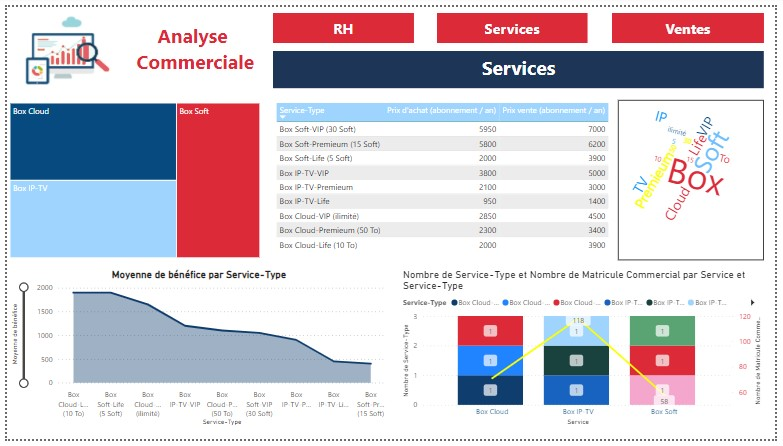

The page's visual inventory and layout, read from the dashboard file:
{"tool":"powerbi","page":{"name":"service","canvas":[1280,720],"ordinal":1},"visuals":[{"type":"textbox","box":[201.4,20,224.3,115.7],"z":0},{"type":"textbox","box":[443.5,73.4,817.9,61.9],"z":1000},{"type":"image","box":[0,0,201.4,155.7],"z":2000},{"type":"treemap","fields":{"Group":["Services.Service"],"Values":["CountNonNull(Services.Type)"]},"box":[0,155.5,426.2,267.8],"z":3000},{"type":"tableEx","fields":{"Values":["Services.Service-Type","Services.Prix d'achat (abonnement / an)","Services.Prix  vente (abonnement / an)"]},"box":[442.9,155.7,570,267.1],"z":4000},{"type":"WordCloud1447959067750","fields":{"Category":["Services.Service-Type"]},"box":[1018.6,155.7,242.9,267.1],"z":5000},{"type":"areaChart","fields":{"Category":["Services.Service-Type"],"Y":["Avg(Services.bénéfice)"]},"box":[0,434.3,640,267.1],"z":6000},{"type":"lineStackedColumnComboChart","fields":{"Category":["Services.Service"],"Y2":["CountNonNull(ventes.Matricule Commercial)"],"Series":["Services.Service-Type"],"Y":["CountNonNull(Services.Service-Type)"]},"box":[654.3,434.3,607.1,267.1],"z":7000},{"type":"actionButton","title":"RH","box":[443.5,10.1,234.7,50.4],"z":7001},{"type":"actionButton","title":"RH","box":[717.1,10.1,250.6,50.4],"z":7002},{"type":"actionButton","title":"RH","box":[1008,10.1,253.4,50.4],"z":7003}]}

Visuals, with their boxes in screenshot pixels (x1, y1, x2, y2), scaled from the page's 1280x720 canvas onto the 783x446 screenshot:
textbox: (123, 12, 260, 84)
textbox: (271, 45, 772, 84)
image: (0, 0, 123, 96)
treemap - Services.Service x CountNonNull(Services.Type): (0, 96, 261, 262)
tableEx - Services.Service-Type x Services.Prix d'achat (abonnement / an): (271, 96, 620, 262)
WordCloud1447959067750 - Services.Service-Type: (623, 96, 772, 262)
areaChart - Services.Service-Type x Avg(Services.bénéfice): (0, 269, 392, 434)
lineStackedColumnComboChart - Services.Service x CountNonNull(ventes.Matricule Commercial): (400, 269, 772, 434)
"RH" actionButton: (271, 6, 415, 37)
"RH" actionButton: (439, 6, 592, 37)
"RH" actionButton: (617, 6, 772, 37)
